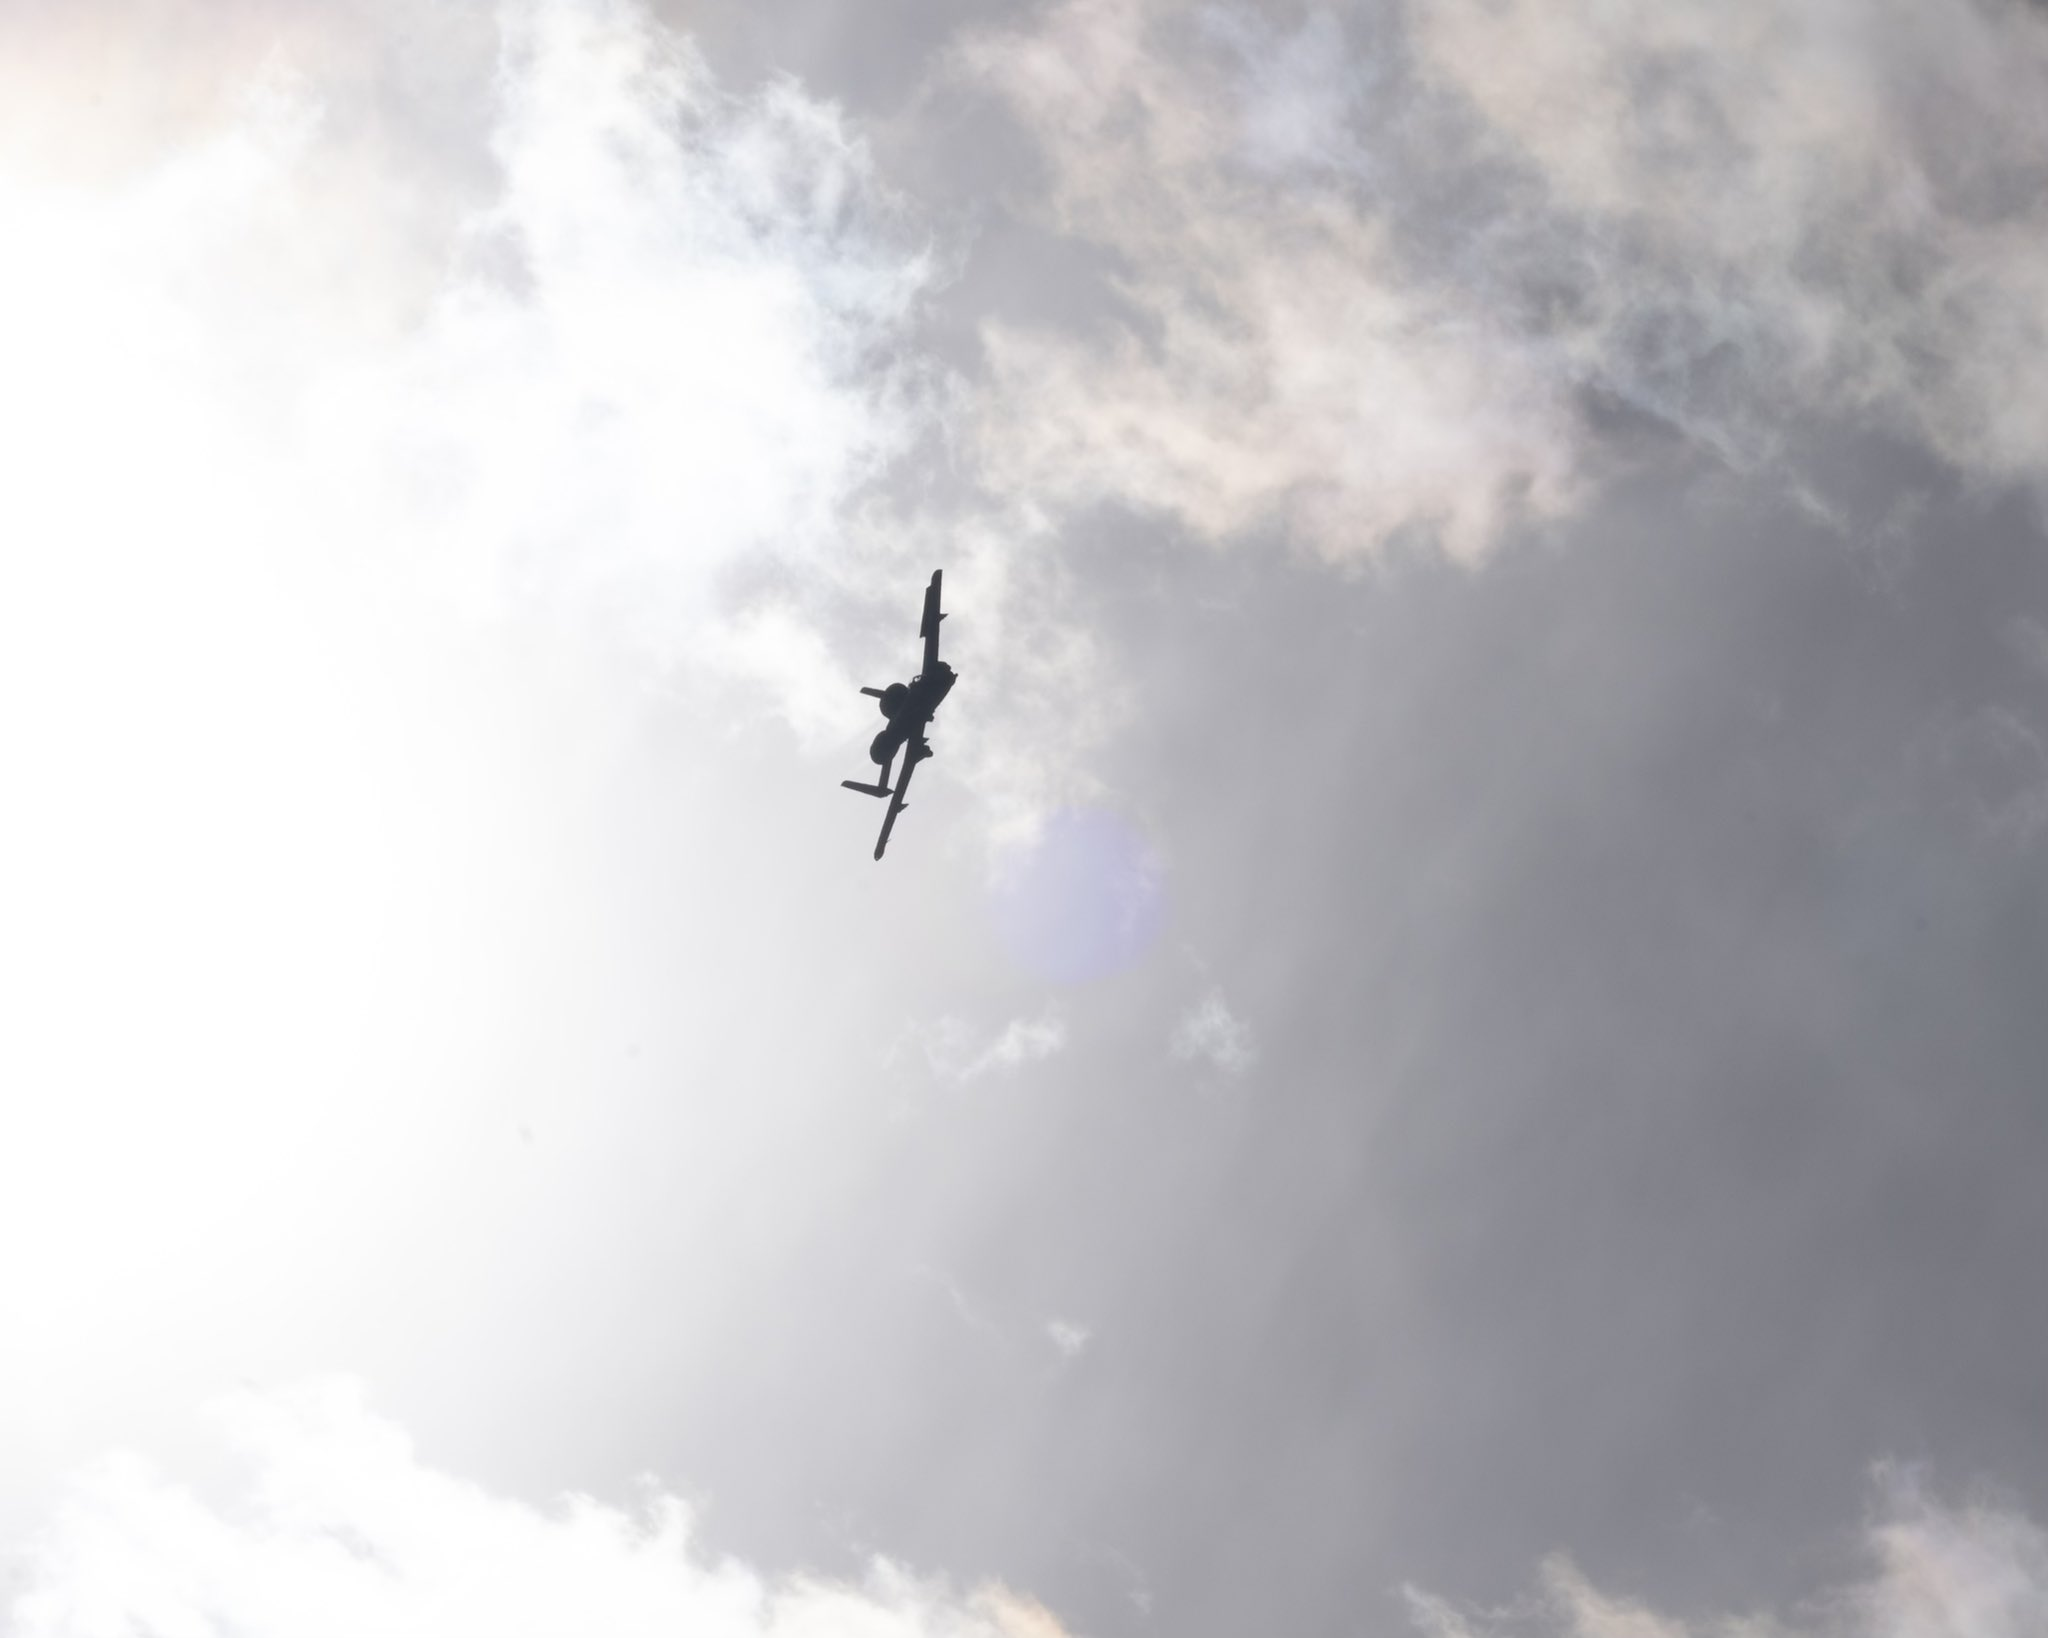airplane: (839, 568, 960, 862)
